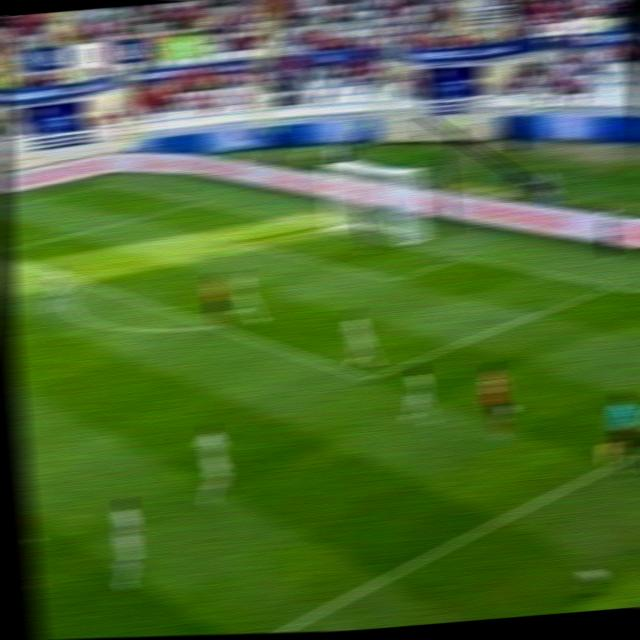bigarea_bottom_inner: (350, 367, 383, 389)
bigarea_bottom_outter: (597, 276, 625, 297)
bigarea_top_outter: (188, 196, 211, 210)
bottom_arc_area_intersection: (200, 318, 230, 335)
corner: (103, 180, 118, 186)
smallarea_bottom_inner: (381, 271, 406, 289)
smallarea_bottom_outter: (447, 247, 474, 265)
smallarea_top_inner: (211, 230, 237, 247)
smallarea_top_outter: (270, 212, 297, 228)
top_arc_area_intersection: (73, 277, 92, 290)
